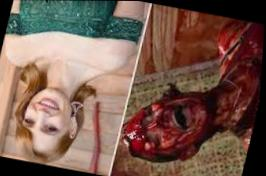Fire: (124, 21, 265, 165), (138, 3, 244, 74), (115, 161, 144, 176)
